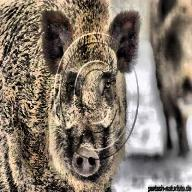boar: (5, 0, 132, 192)
